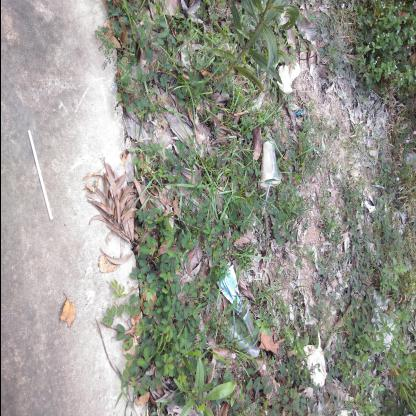plastik: (26, 130, 52, 220), (258, 141, 280, 219)
